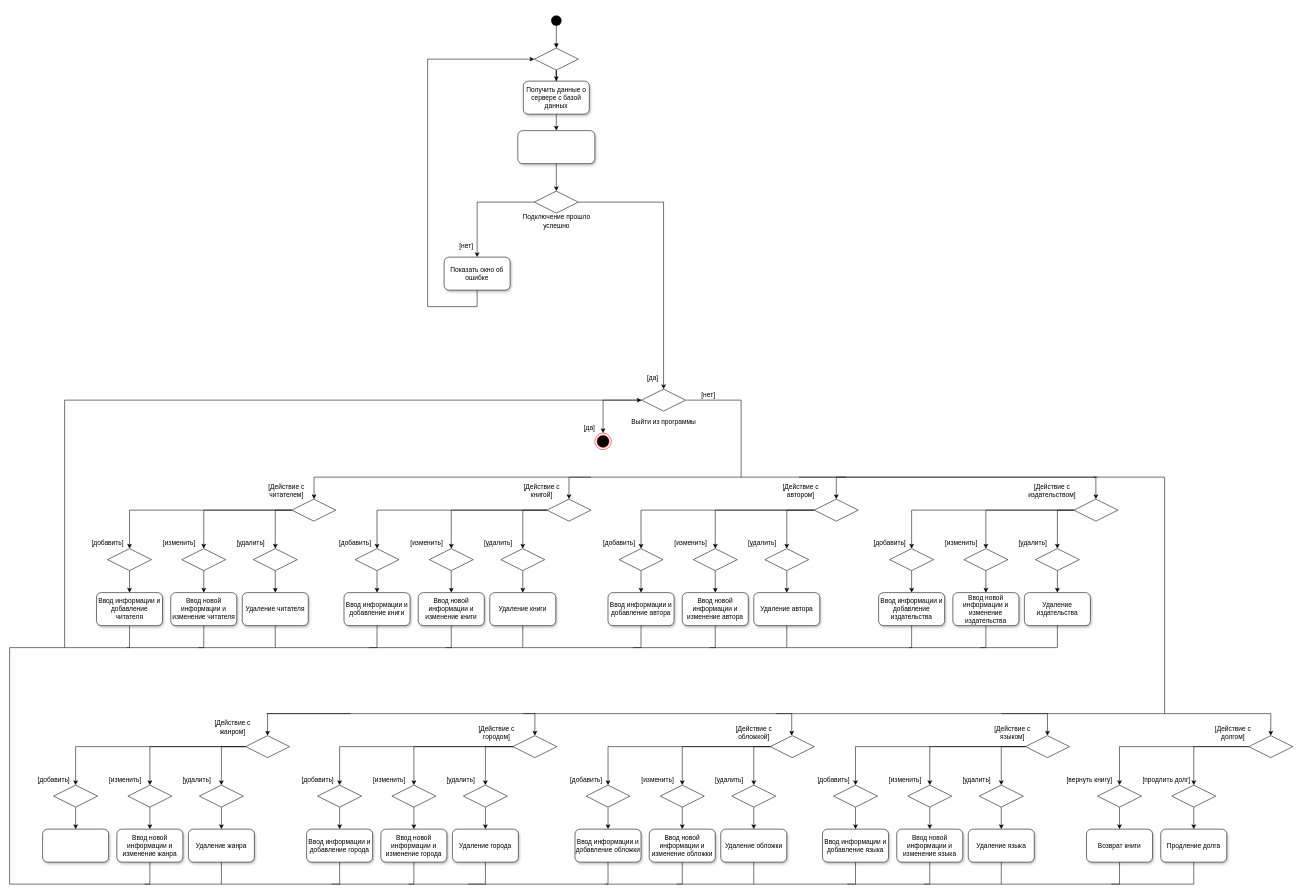
Some shapes in this 1302 by 894 pixel diagram are drawn without their labels. The shapes that lost their labels are listed below. From the top down, each one's centre as x and y in pixels, then its label:
At point 556,147: "Подключиться к серверу с базой данных".
At point 76,846: "Ввод информации и добавление жанра".
